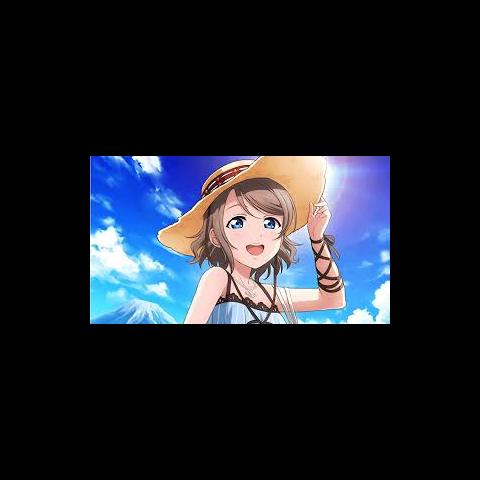opened: (214, 202, 286, 234)
